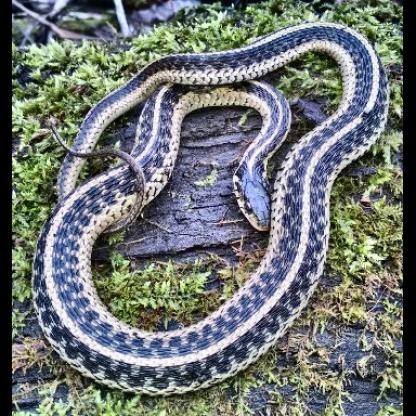Snake: (37, 24, 387, 398)
